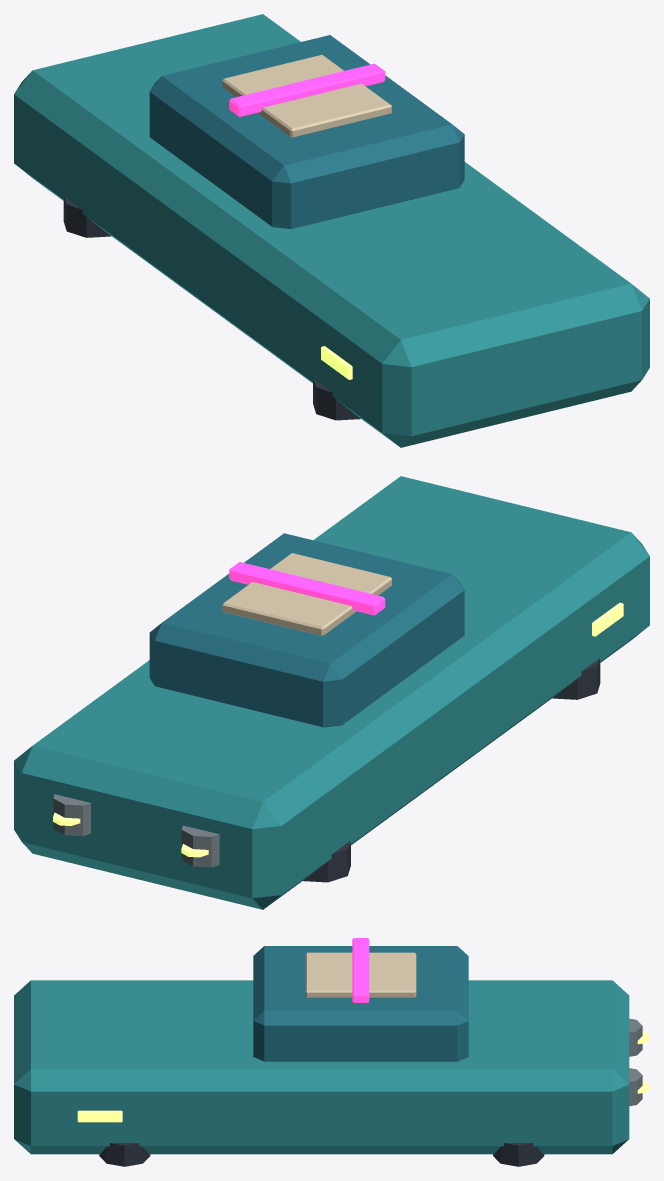
File: vehicles_010_seed100.glb
3 renders of one model, top to bottom at view 1: azimuth 30°, elevation 25°; view 2: azimuth 150°, elevation 25°; view 3: azimuth 270°, elevation 25°, orthographic. The views are drawn at different scales.
Visible parts, largest first — view 1: vehicles_010_seed100; view 2: vehicles_010_seed100; view 3: vehicles_010_seed100.
Part boxes in pixels (x1,y1,x2,y2): vehicles_010_seed100: (14, 14, 649, 447); vehicles_010_seed100: (14, 476, 649, 909); vehicles_010_seed100: (14, 938, 649, 1166).
Bounding box in the file's own units: 2.4 × 1.55 × 5.96.
